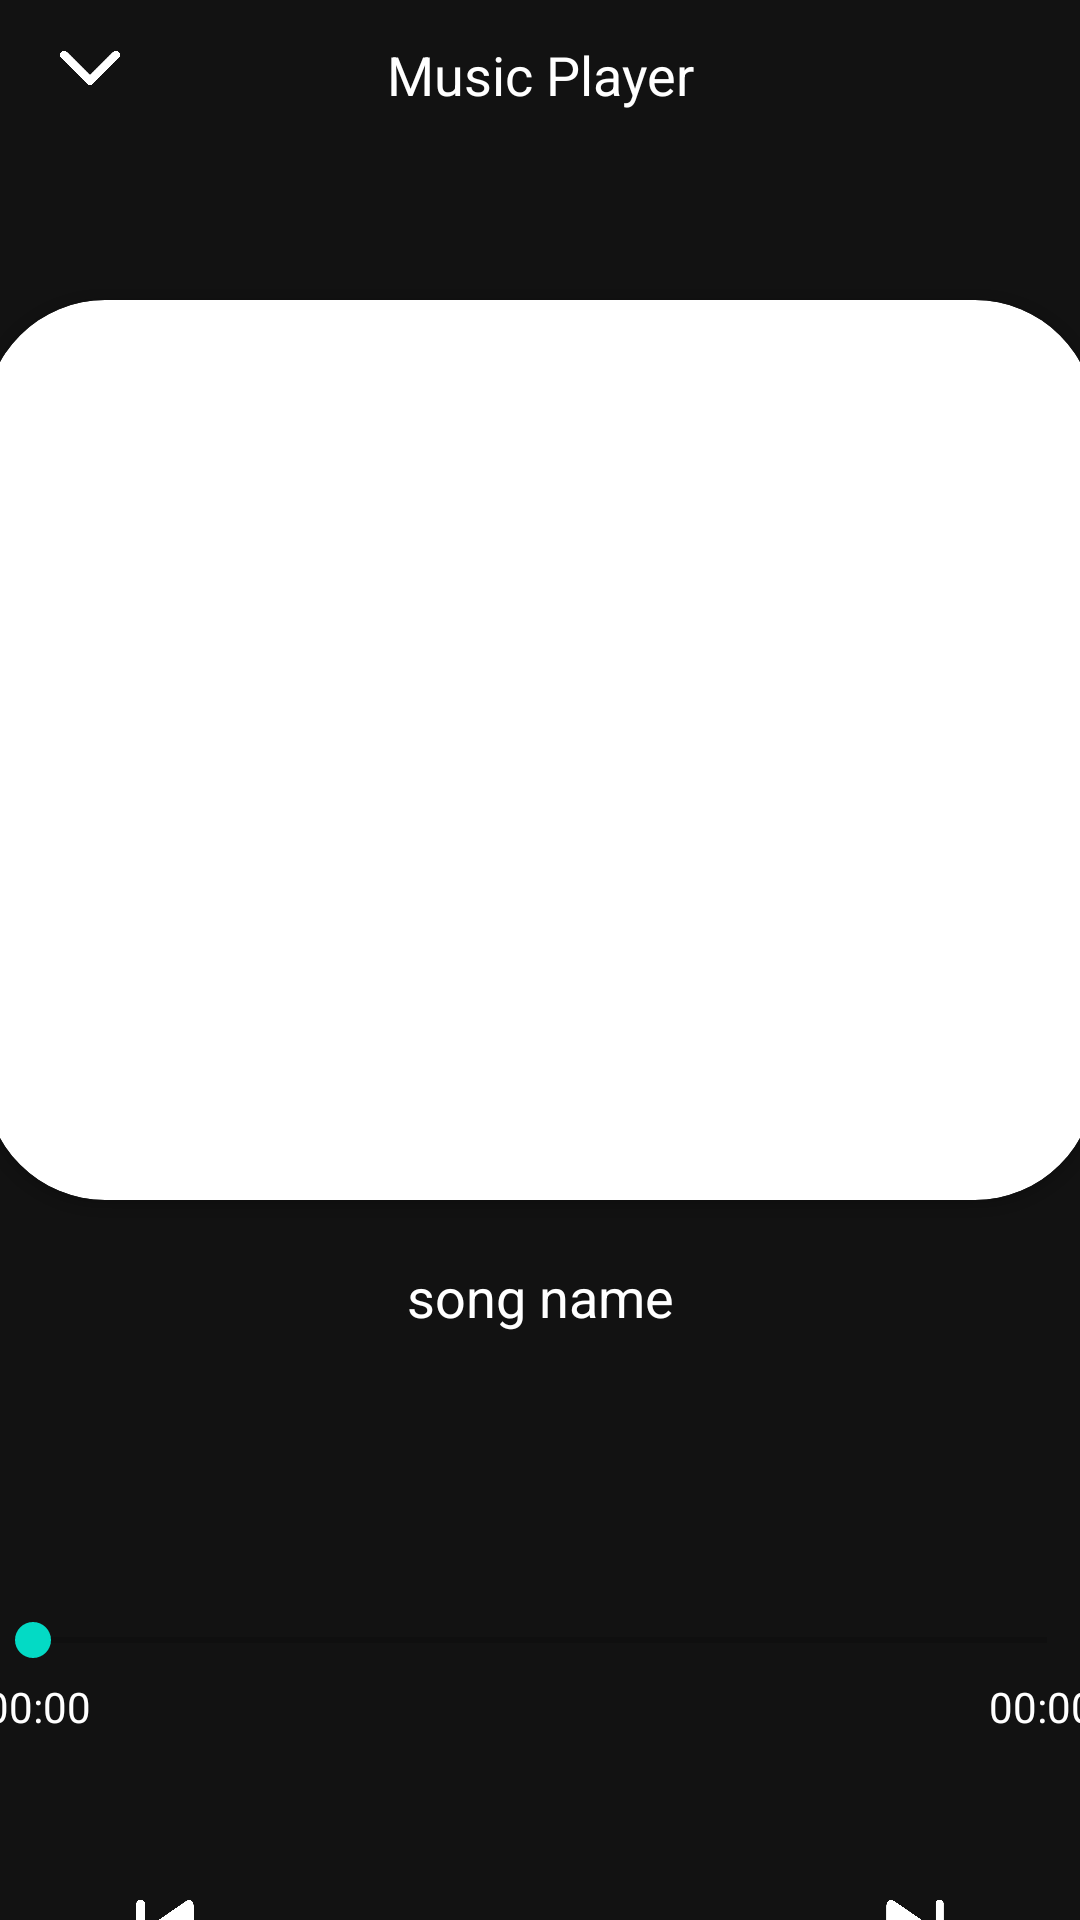

Where to tap for icons on this 1080*1920 app screen, as point (x, y):
down: point (90, 68)
